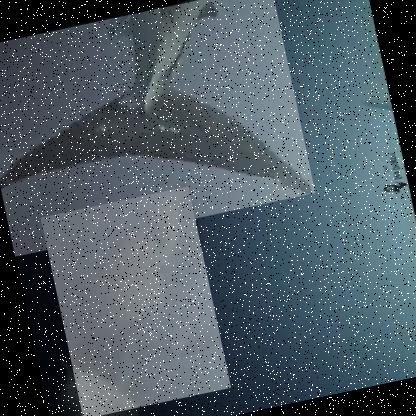white-shark: (0, 0, 315, 258), (38, 185, 231, 415)
